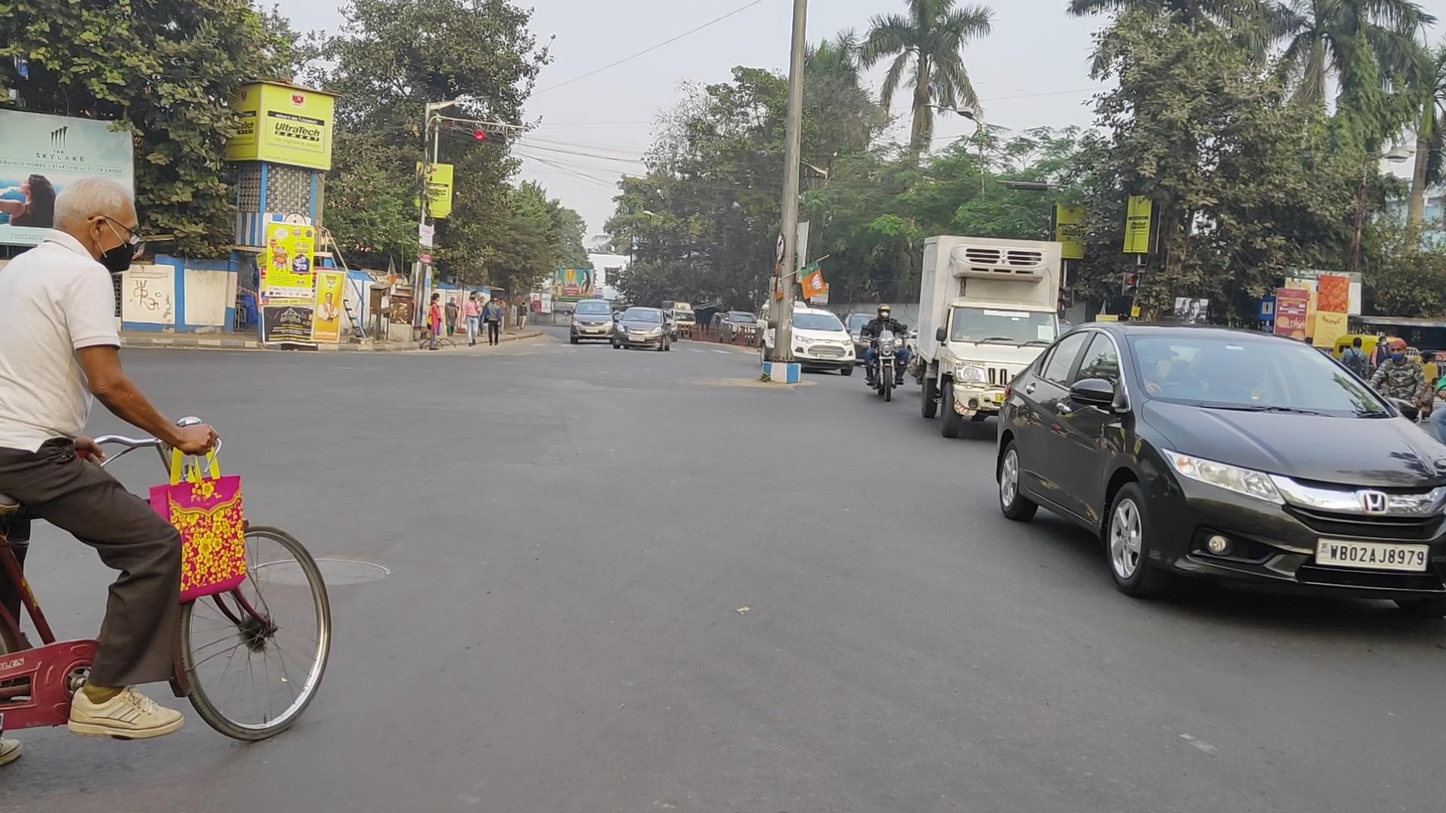bike: (1, 182, 332, 778), (859, 303, 914, 403)
car: (996, 324, 1446, 626), (760, 307, 856, 376), (613, 306, 671, 352), (569, 299, 616, 344), (722, 311, 758, 344)
van: (915, 235, 1068, 439)
